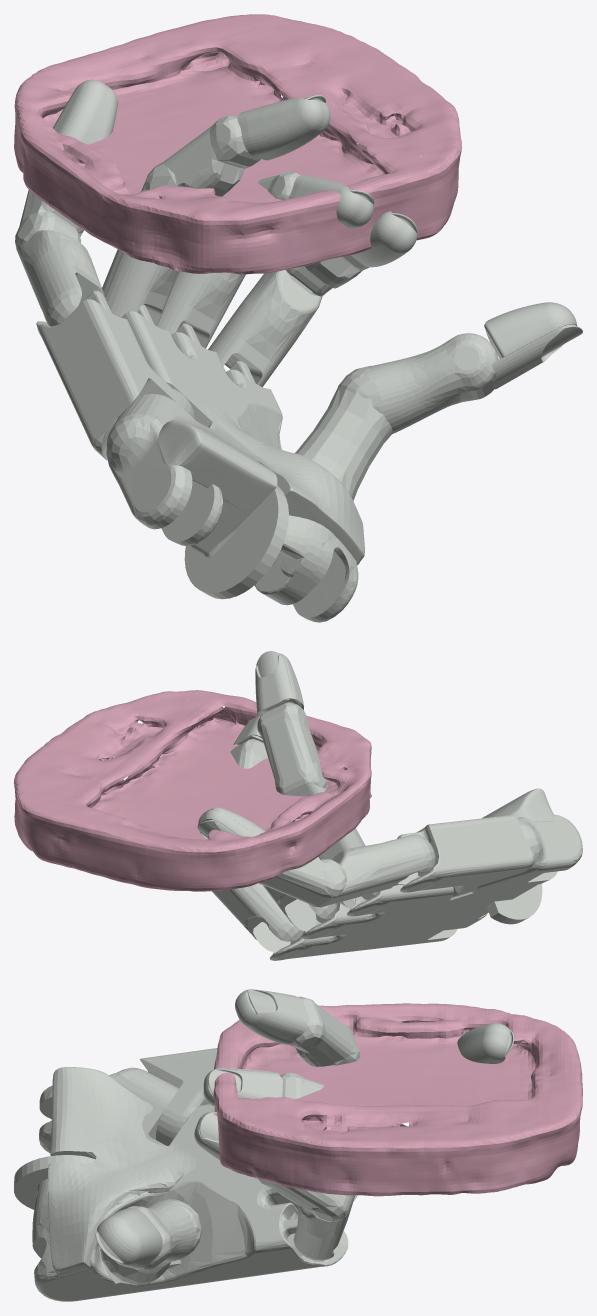
3 views of the same model, one above another, from view 1: azimuth 30°, elevation 25°; view 2: azimuth 150°, elevation 25°; view 3: azimuth 270°, elevation 25° (orthographic). The views are drawn at different scales.
Visible parts, largest first — view 1: hand, world; view 2: world, hand; view 3: hand, world.
Boxes of the visible parts, x1,y1,x2,y2 form: hand: (15,79,582,622); world: (14,14,461,274); world: (14,690,371,891); hand: (197,651,582,960); hand: (14,989,514,1301); world: (213,1003,582,1196).
Size of the model in its own units: 0.165 by 0.1389 by 0.2025.
